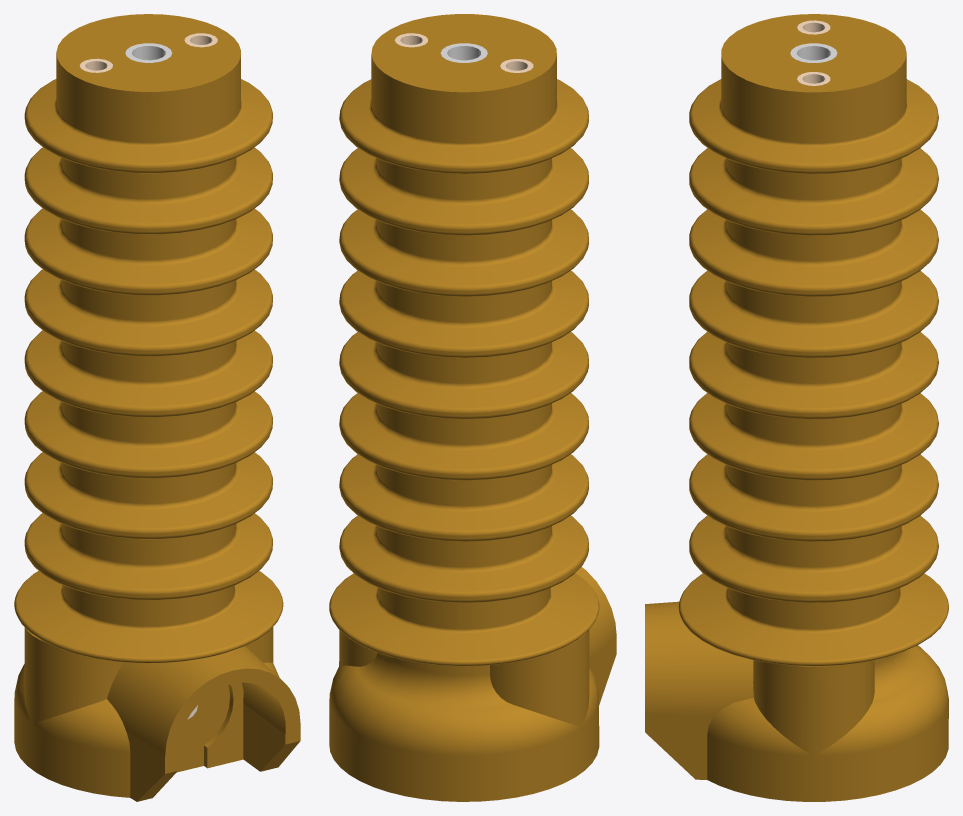
Rendered from 04.3_izolyator-emkostnoy-ie-20-80x226.glb.
The picture shows the model from 3 angles, left to right: view 1: azimuth 30°, elevation 25°; view 2: azimuth 150°, elevation 25°; view 3: azimuth 270°, elevation 25°; orthographic projection.
Parts seen in each view (by area): view 1: 04.3_izolyator-emkostnoy-ie-20-80x226; view 2: 04.3_izolyator-emkostnoy-ie-20-80x226; view 3: 04.3_izolyator-emkostnoy-ie-20-80x226.
Boxes of the visible parts, bbox=[...] form: 04.3_izolyator-emkostnoy-ie-20-80x226: bbox=[14, 14, 300, 801]; 04.3_izolyator-emkostnoy-ie-20-80x226: bbox=[329, 14, 616, 801]; 04.3_izolyator-emkostnoy-ie-20-80x226: bbox=[645, 14, 948, 801].
Size of the model in its own units: 80 by 226 by 90.
